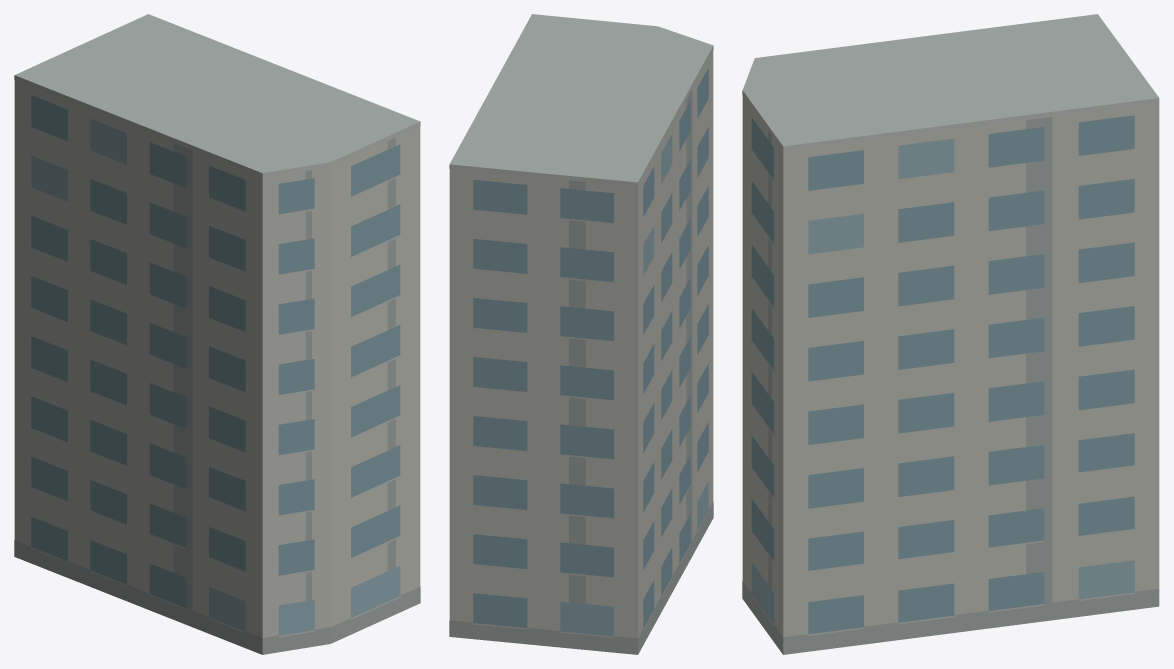
Rendered from survey-upis-32565327.glb.
3 renders of one model, left to right at view 1: azimuth 30°, elevation 25°; view 2: azimuth 150°, elevation 25°; view 3: azimuth 270°, elevation 25°, orthographic. The views are drawn at different scales.
Visible parts, largest first — view 1: survey-upis-32565327.tmp; view 2: survey-upis-32565327.tmp; view 3: survey-upis-32565327.tmp.
Part boxes in pixels (bbox=[...]): survey-upis-32565327.tmp: bbox=[14, 14, 420, 654]; survey-upis-32565327.tmp: bbox=[449, 14, 713, 654]; survey-upis-32565327.tmp: bbox=[742, 14, 1159, 654].
Size of the model in its own units: 13.63 by 24.4 by 18.14.
